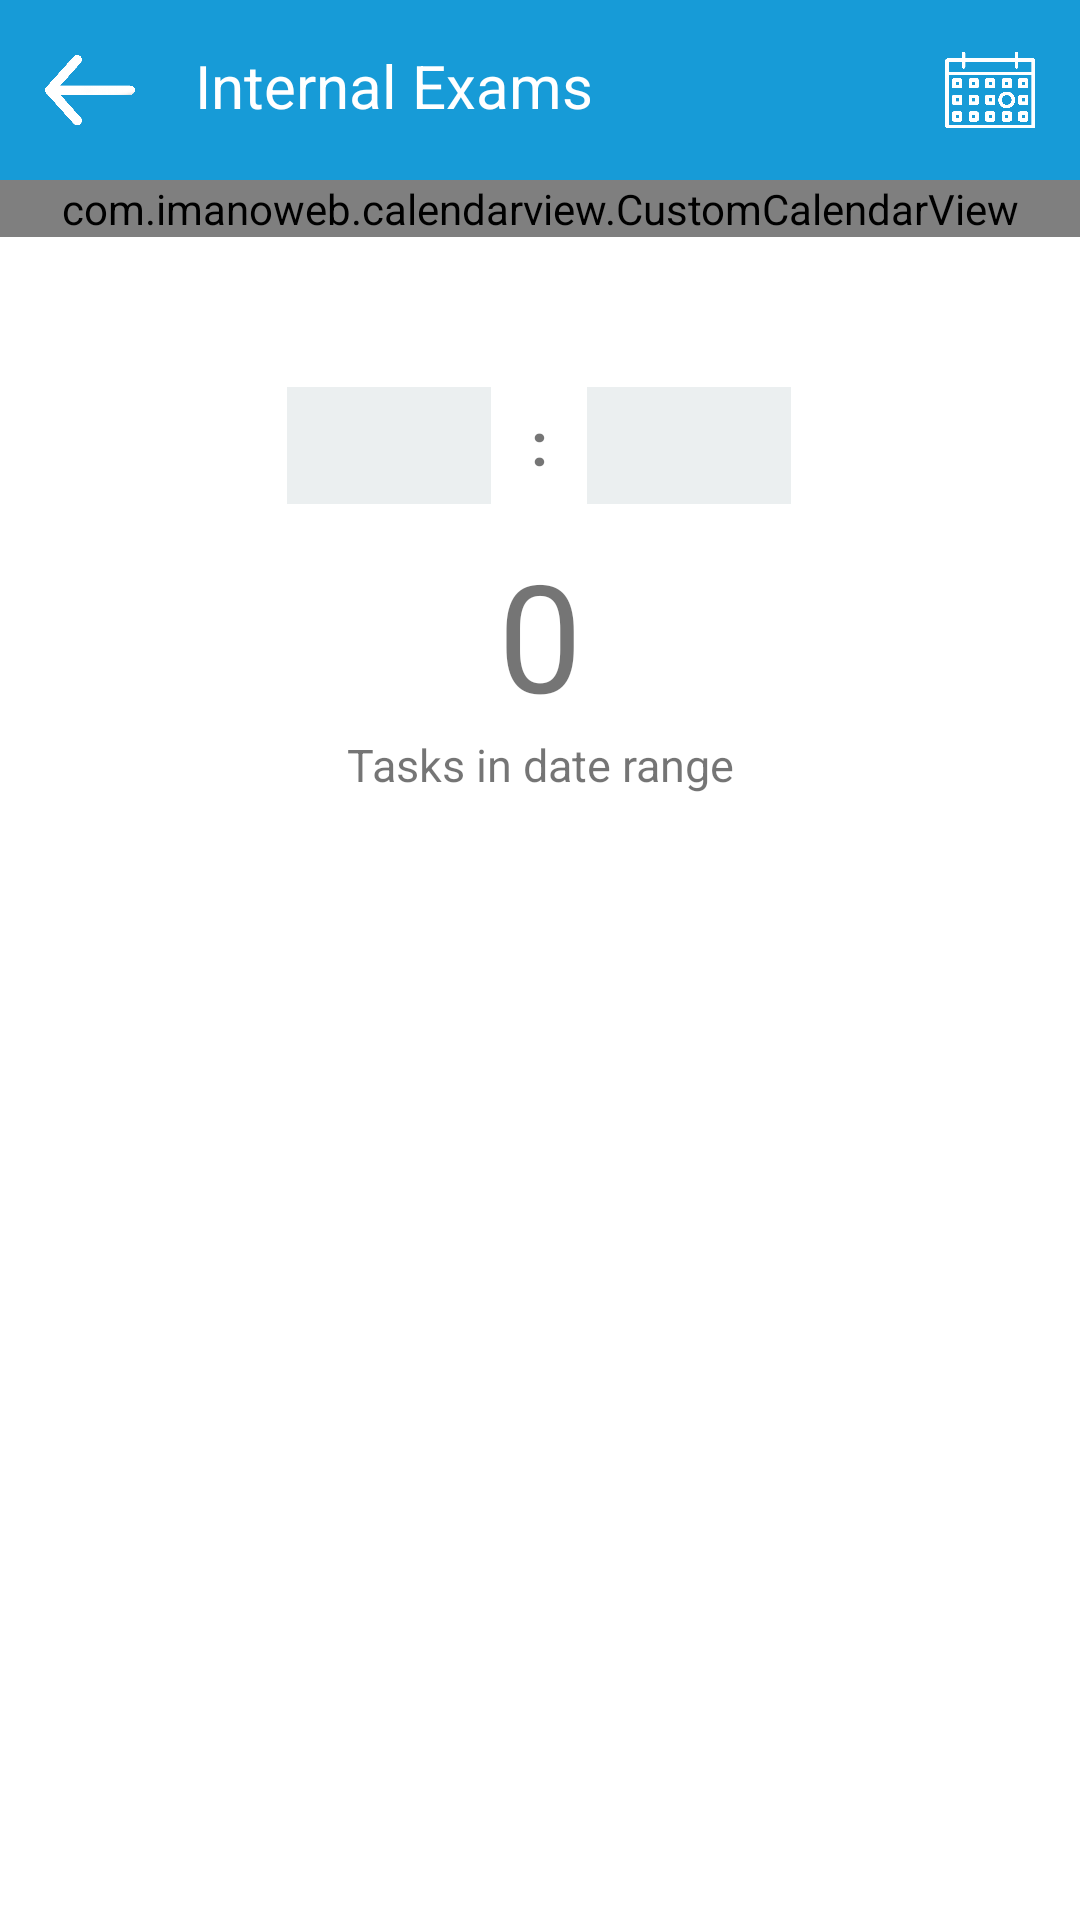

Icons on this 1080×1920 Android screen, each with its box as (x1, y1, x2, y2):
back: (45, 55, 135, 125)
calander: (945, 52, 1035, 128)
